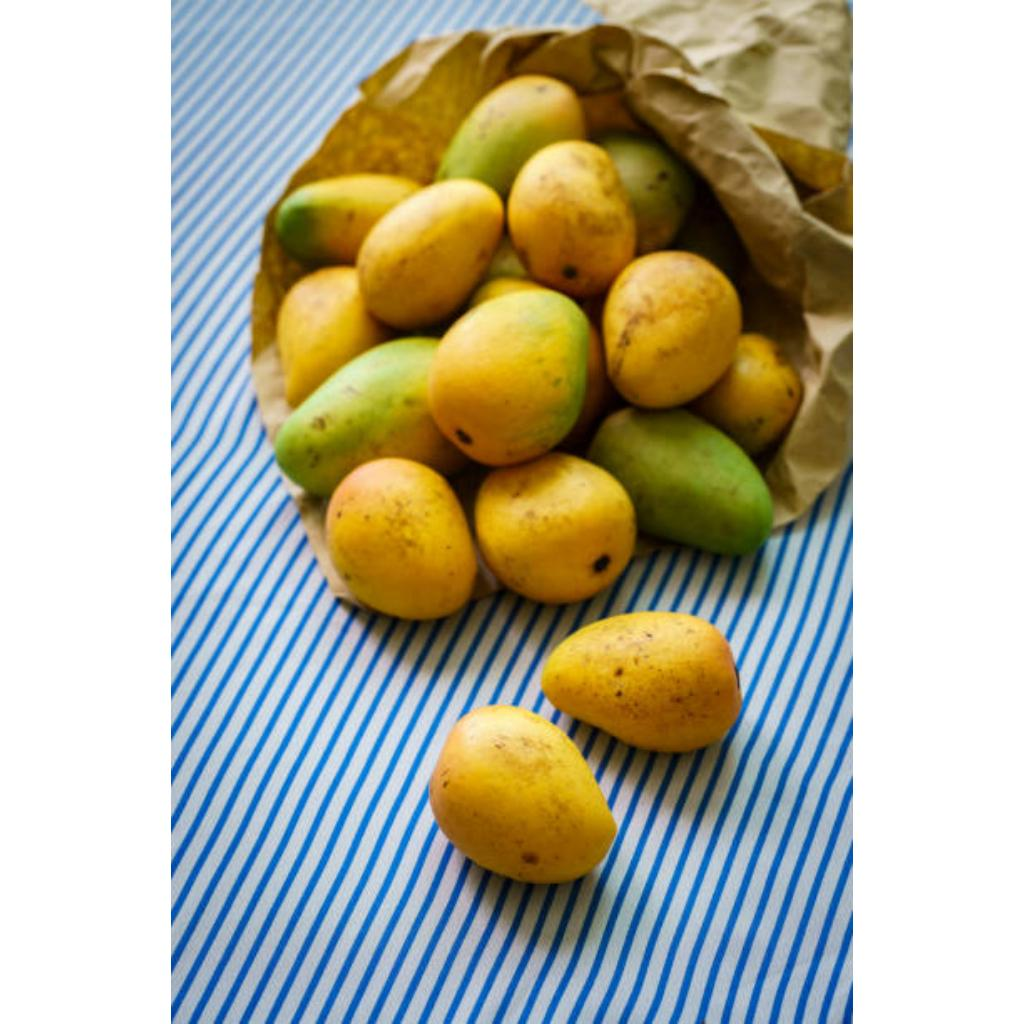mango: (431, 706, 617, 882), (275, 338, 467, 495), (429, 288, 589, 465), (543, 612, 743, 751), (589, 408, 773, 554), (475, 452, 637, 603), (327, 462, 477, 619), (603, 250, 743, 408), (357, 178, 503, 329), (507, 140, 637, 297), (438, 76, 587, 195), (277, 268, 393, 406), (693, 334, 803, 454), (277, 174, 421, 265), (599, 132, 695, 253)
